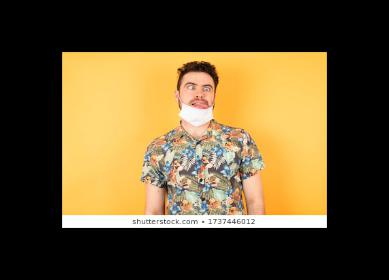mask_weared_incorrect: (179, 76, 215, 123)
